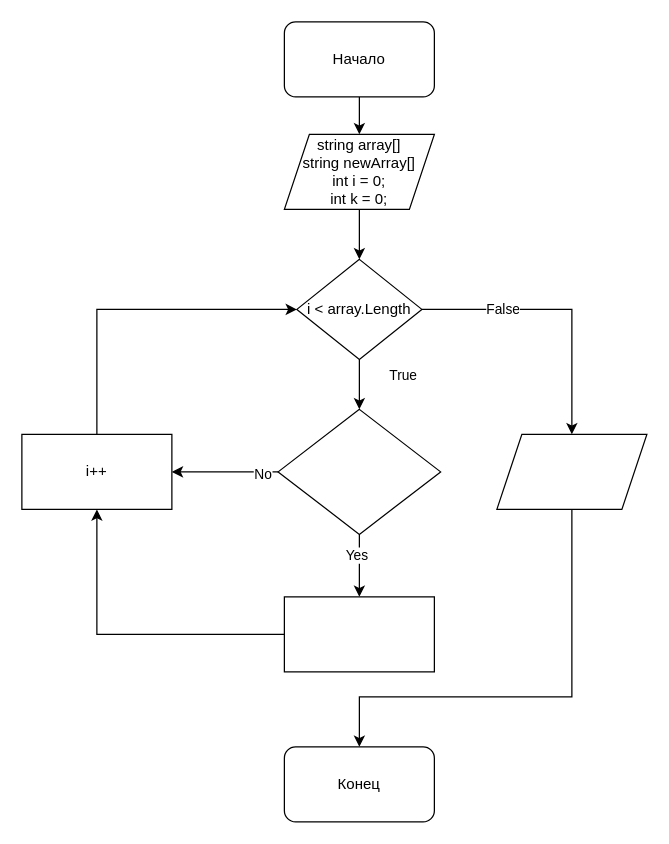
Image size: 669x844. Some labels were removed from this diagram. The shapes that lost their labels are listed below. From the top down, each one's centre as x and y in pixels, then its label:
point 359,471: array[i].Length <= 3
point 571,471: newArray[]
point 358,634: newArray[k] = array[i] k++
